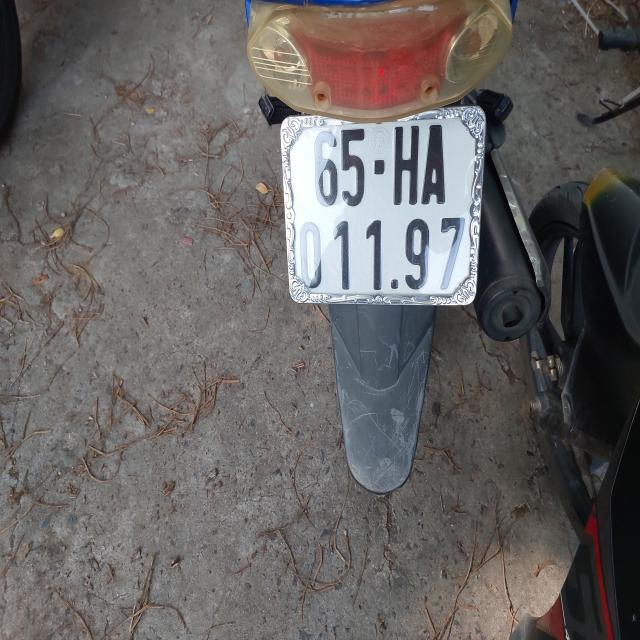0: (299, 220, 325, 288)
1: (332, 221, 354, 288), (364, 220, 384, 292)
5: (339, 126, 366, 208)
6: (309, 128, 340, 208)
7: (439, 214, 466, 288)
9: (402, 222, 432, 287)
A: (422, 123, 450, 207)
H: (391, 123, 421, 204)
